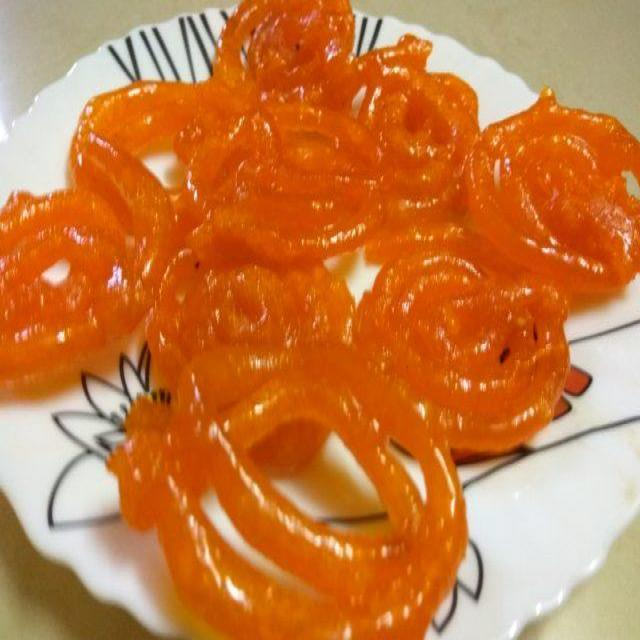jalebi: (8, 9, 632, 635)
